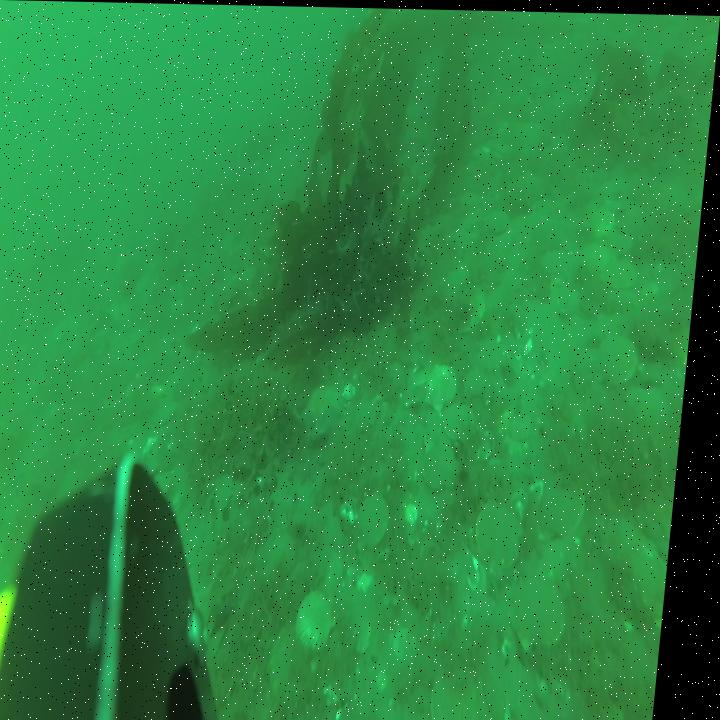scallop: (519, 567, 577, 646), (545, 467, 600, 544), (279, 624, 331, 704), (484, 499, 531, 572), (441, 665, 501, 720), (307, 586, 351, 654), (605, 327, 647, 390), (429, 437, 469, 497), (366, 485, 402, 546), (268, 534, 307, 586), (605, 253, 649, 297), (432, 360, 465, 412), (555, 273, 593, 318), (485, 328, 521, 372), (488, 203, 518, 239), (591, 201, 619, 235), (160, 400, 187, 430)
starfish: (311, 378, 352, 438)
